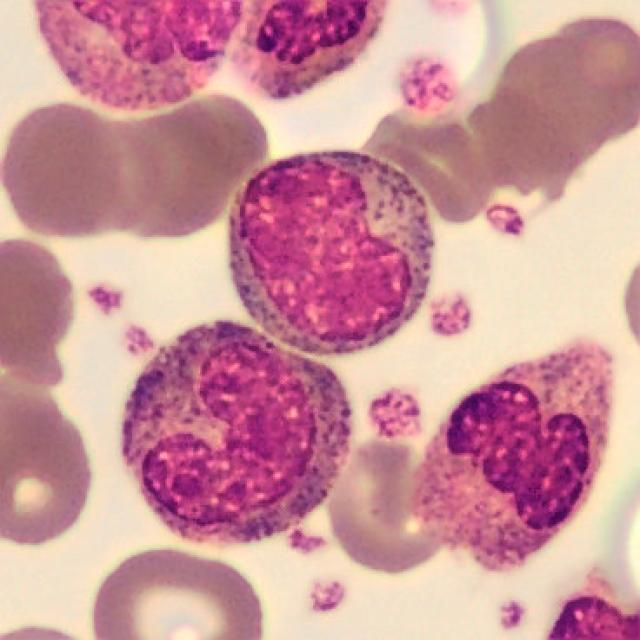Metamielocito: (120, 322, 353, 547), (230, 150, 435, 356)
